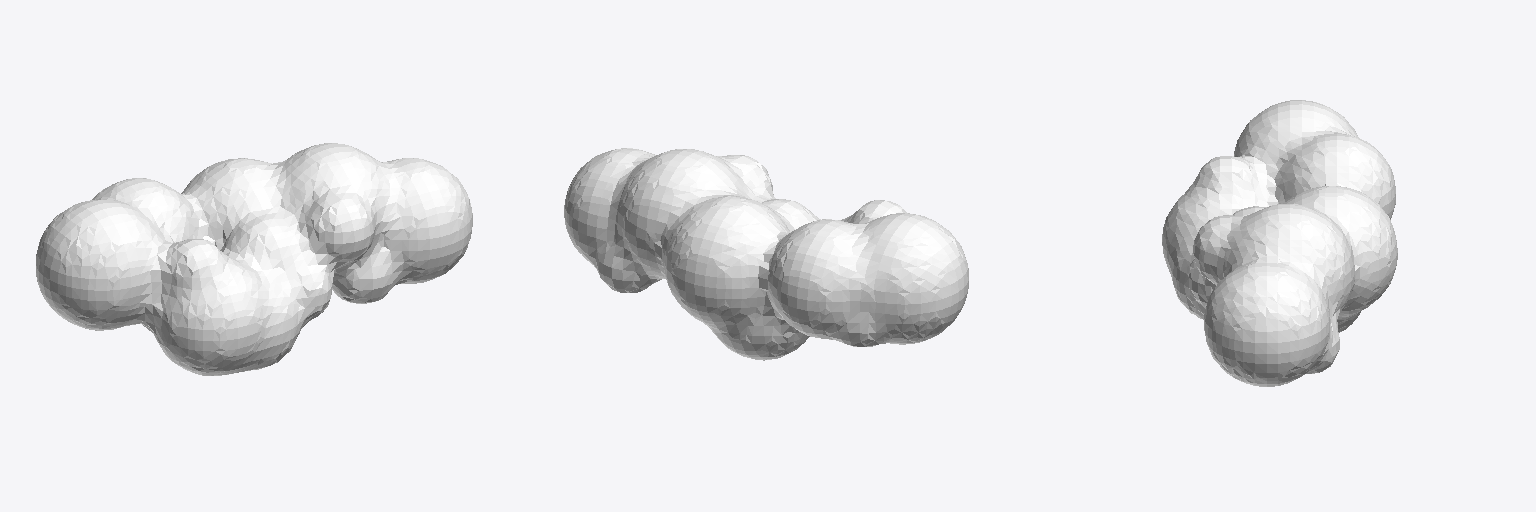
The model's file is cloud-standing.obj.
3 renders of one model, left to right at view 1: azimuth 30°, elevation 25°; view 2: azimuth 150°, elevation 25°; view 3: azimuth 270°, elevation 25°, orthographic.
Parts seen in each view (by area): view 1: CloudStanding; view 2: CloudStanding; view 3: CloudStanding.
Boxes of the visible parts, x1=… form: CloudStanding: x1=36, y1=143, x2=472, y2=375; CloudStanding: x1=564, y1=148, x2=968, y2=360; CloudStanding: x1=1162, y1=100, x2=1397, y2=386.
Size of the model in its own units: 26.83 by 10.76 by 13.57.